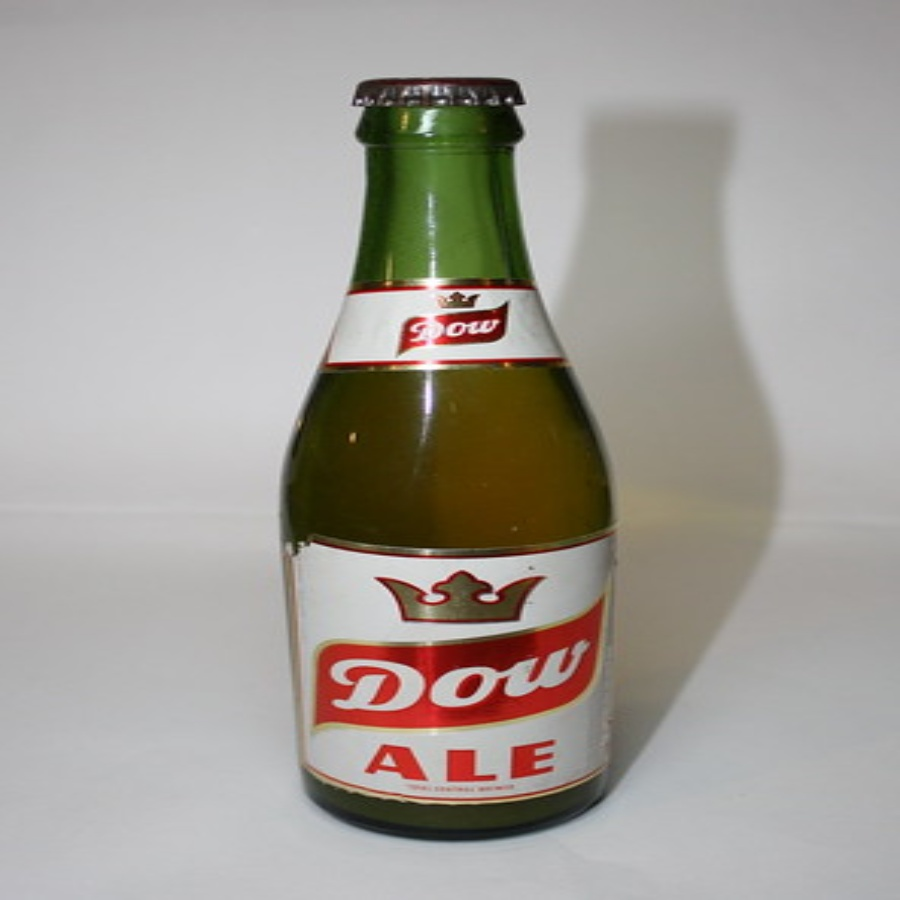beer: (261, 52, 626, 847)
